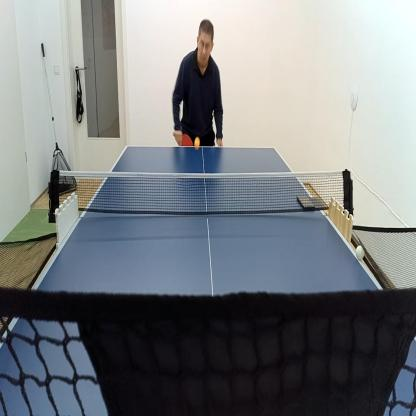Ball: (355, 244, 366, 262), (193, 136, 201, 150)
